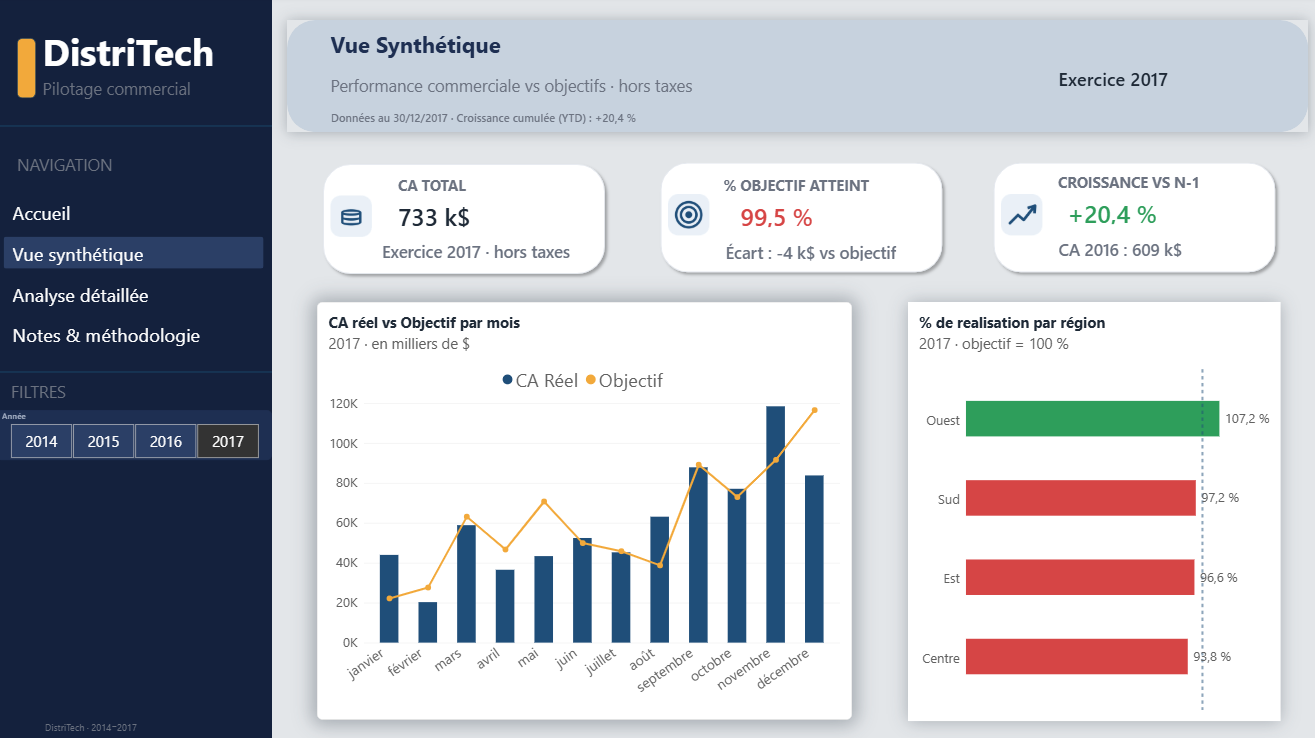

This screenshot's page, from the dashboard's own definition file:
{"tool":"powerbi","page":{"name":"Vue synthétique","canvas":[1920,1080],"ordinal":1},"visuals":[{"type":"group","id":"g1","title":" Barre latérale","box":[0,0,1902.5,1080],"z":0},{"type":"shape","box":[0,0,400,1080],"z":0,"group":"g1"},{"type":"shape","box":[955,227.5,426,176.7],"z":0,"group":"g3"},{"type":"shape","box":[1437.5,227.5,426,176.7],"z":0,"group":"g4"},{"type":"shape","box":[465.2,231,426,176.7],"z":0,"group":"g2"},{"type":"textbox","box":[66.7,40,296.7,93.3],"z":1000,"group":"g1"},{"type":"image","box":[975,230.8,60,160],"z":1000,"group":"g3"},{"type":"image","box":[1457.5,230.8,60,160],"z":1000,"group":"g4"},{"type":"group","id":"g2","title":"KPI CA","box":[465.2,231,426,176.7],"z":1000},{"type":"image","box":[485.2,234.3,60,160],"z":1000,"group":"g2"},{"type":"textbox","box":[485,108.3,582,43],"z":2000},{"type":"textbox","box":[67.5,112.5,265,42.5],"z":2000,"group":"g1"},{"type":"textbox","box":[1539.6,248.7,245.6,38.9],"z":2000,"group":"g4"},{"type":"textbox","box":[1055,253.7,215,34],"z":2000,"group":"g3"},{"type":"textbox","box":[582.2,255.7,159.4,30],"z":2000,"group":"g2"},{"type":"shape","box":[30.7,55.9,27.4,87.4],"z":3000,"group":"g1"},{"type":"group","id":"g3","title":"KPI CA","box":[955,227.5,426,176.7],"z":3000},{"type":"cardVisual","fields":{"Data":["_Mesures.Croissance_Affiche"]},"box":[1538.6,292.8,174.1,33.5],"z":3000,"group":"g4"},{"type":"cardVisual","fields":{"Data":["_Mesures.Pct_Realisation"]},"box":[1063.1,297.3,174.1,33.5],"z":3000,"group":"g3"},{"type":"cardVisual","fields":{"Data":["_Mesures.CA_Affiche"]},"box":[567,298.6,174.1,33.5],"z":3000,"group":"g2"},{"type":"shape","box":[0,156.2,400,55.1],"z":4000,"group":"g1"},{"type":"group","id":"g4","title":"KPI CA","box":[1437.5,227.5,426,176.7],"z":4000},{"type":"cardVisual","fields":{"Data":["_Mesures.Sous_Titre_N1"]},"box":[1523.5,350.1,224.8,24.3],"z":4000,"group":"g4"},{"type":"cardVisual","fields":{"Data":["_Mesures.Sous_Titre_CA"]},"box":[542.7,352.2,306.5,25.3],"z":4000,"group":"g2"},{"type":"cardVisual","fields":{"Data":["_Mesures.Sous_Titre_Objectif"]},"box":[1042.5,353.7,306.5,25.3],"z":4000,"group":"g3"},{"type":"textbox","box":[30.3,223.6,160,42.5],"z":5000,"group":"g1"},{"type":"lineClusteredColumnComboChart","title":"CA réel vs Objectif par mois","fields":{"Category":["Dim_Date.Mois"],"Y":["_Mesures.CA_Sous_Objectif"],"Y2":["_Mesures.Objectif_CA_Total"]},"box":[465,440,775,605],"z":5000},{"type":"pageNavigator","box":[10,285,377.5,227.5],"z":6000,"group":"g1"},{"type":"clusteredBarChart","title":"% de realisation par région","fields":{"Category":["Dim_Magasins.Region"],"Y":["_Mesures.Pct_Realisation"]},"box":[1322.5,440,540,607.5],"z":6000},{"type":"textbox","box":[485,43.3,360,50],"z":7000},{"type":"textbox","box":[22.5,553.1,160,42.5],"z":7000,"group":"g1"},{"type":"cardVisual","fields":{"Data":["_Mesures.Info_Donnees"]},"box":[470,150.8,516.1,42.9],"z":8000},{"type":"slicer","fields":{"Values":["Dim_Date.Annee"]},"box":[0,595.2,400,72.6],"z":8000,"group":"g1"},{"type":"shape","box":[0,512.5,400,55.1],"z":9000,"group":"g1"},{"type":"shape","box":[422.5,30,1480,162.5],"z":9500,"group":"g1"},{"type":"cardVisual","fields":{"Data":["_Mesures.Contexte_Filtres"]},"box":[1523.3,76.7,226.7,76.7],"z":10000},{"type":"textbox","box":[67.9,1037.5,160,42.5],"z":10000,"group":"g1"}]}

Visuals, with their boxes on the page's 1920x1080 design canvas (x1, y1, x2, y2). These are canvas units, not pixel positions in the 1315x738 screenshot, which may show the page scaled, cropped or inside an application window:
" Barre latérale" group: bbox(0, 0, 1902, 1080)
shape: bbox(0, 0, 400, 1080)
shape: bbox(955, 228, 1381, 404)
shape: bbox(1438, 228, 1864, 404)
shape: bbox(465, 231, 891, 408)
textbox: bbox(67, 40, 363, 133)
image: bbox(975, 231, 1035, 391)
image: bbox(1458, 231, 1518, 391)
"KPI CA" group: bbox(465, 231, 891, 408)
image: bbox(485, 234, 545, 394)
textbox: bbox(485, 108, 1067, 151)
textbox: bbox(68, 112, 332, 155)
textbox: bbox(1540, 249, 1785, 288)
textbox: bbox(1055, 254, 1270, 288)
textbox: bbox(582, 256, 742, 286)
shape: bbox(31, 56, 58, 143)
"KPI CA" group: bbox(955, 228, 1381, 404)
cardVisual - _Mesures.Croissance_Affiche: bbox(1539, 293, 1713, 326)
cardVisual - _Mesures.Pct_Realisation: bbox(1063, 297, 1237, 331)
cardVisual - _Mesures.CA_Affiche: bbox(567, 299, 741, 332)
shape: bbox(0, 156, 400, 211)
"KPI CA" group: bbox(1438, 228, 1864, 404)
cardVisual - _Mesures.Sous_Titre_N1: bbox(1524, 350, 1748, 374)
cardVisual - _Mesures.Sous_Titre_CA: bbox(543, 352, 849, 378)
cardVisual - _Mesures.Sous_Titre_Objectif: bbox(1042, 354, 1349, 379)
textbox: bbox(30, 224, 190, 266)
"CA réel vs Objectif par mois" lineClusteredColumnComboChart: bbox(465, 440, 1240, 1045)
pageNavigator: bbox(10, 285, 388, 512)
"% de realisation par région" clusteredBarChart: bbox(1322, 440, 1862, 1048)
textbox: bbox(485, 43, 845, 93)
textbox: bbox(22, 553, 182, 596)
cardVisual - _Mesures.Info_Donnees: bbox(470, 151, 986, 194)
slicer - Dim_Date.Annee: bbox(0, 595, 400, 668)
shape: bbox(0, 512, 400, 568)
shape: bbox(422, 30, 1902, 192)
cardVisual - _Mesures.Contexte_Filtres: bbox(1523, 77, 1750, 153)
textbox: bbox(68, 1038, 228, 1080)
